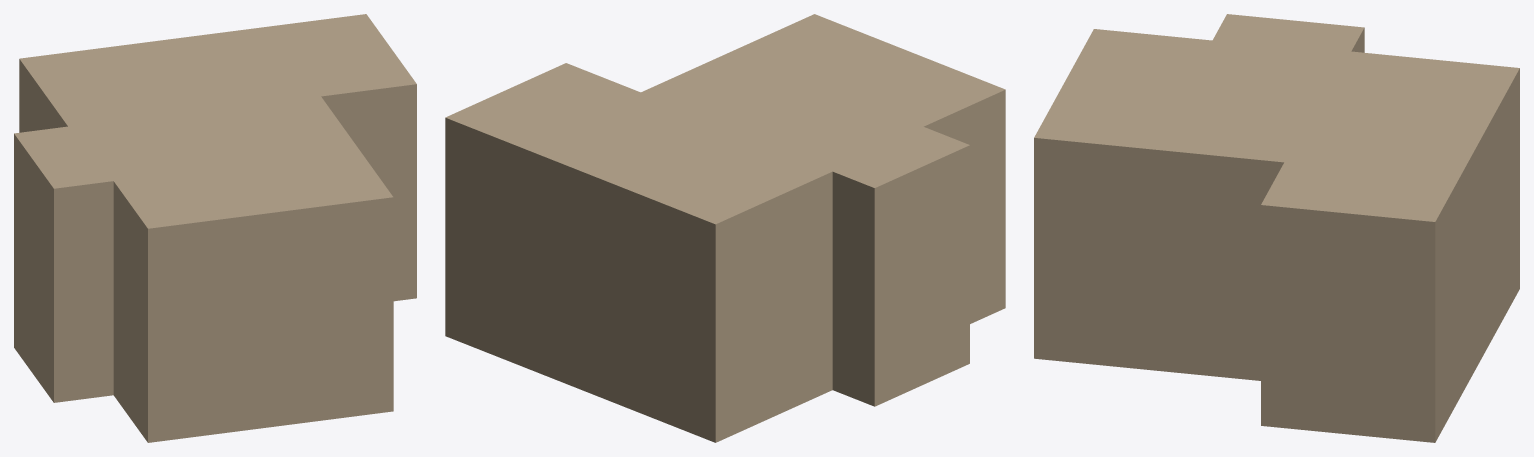
File: bld_101353707.dae
3 views of the same model, side by side, from view 1: azimuth 30°, elevation 25°; view 2: azimuth 150°, elevation 25°; view 3: azimuth 270°, elevation 25° (orthographic). The views are drawn at different scales.
Parts seen in each view (by area): view 1: bld_101353707; view 2: bld_101353707; view 3: bld_101353707.
Part boxes in pixels (x1,y1,x2,y2): bld_101353707: [14, 14, 416, 442]; bld_101353707: [445, 14, 1005, 442]; bld_101353707: [1034, 14, 1519, 442].
Size of the model in its own units: 16.16 by 15.95 by 8.
